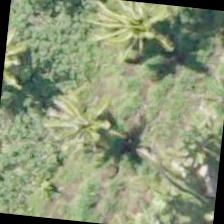Kelapa_Sawit: (50, 80, 148, 179)
